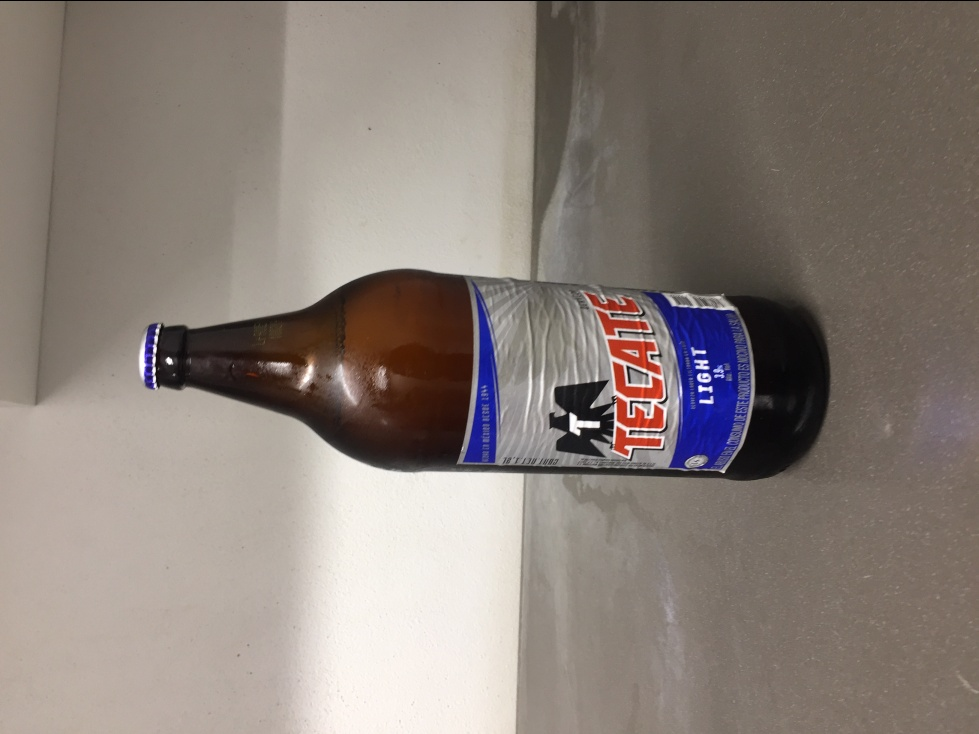tecateC: (141, 268, 831, 483)
